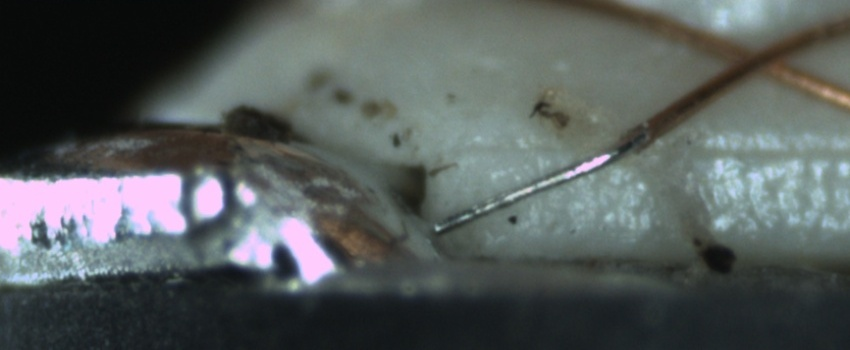CL: (714, 28, 806, 88)
DL: (458, 123, 850, 187)
TS: (428, 128, 645, 238)
TTCW: (428, 85, 701, 239)
